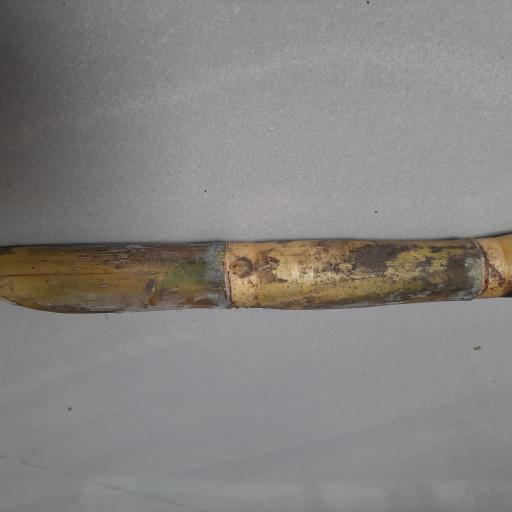Damage_Bud: (230, 256, 253, 278)
